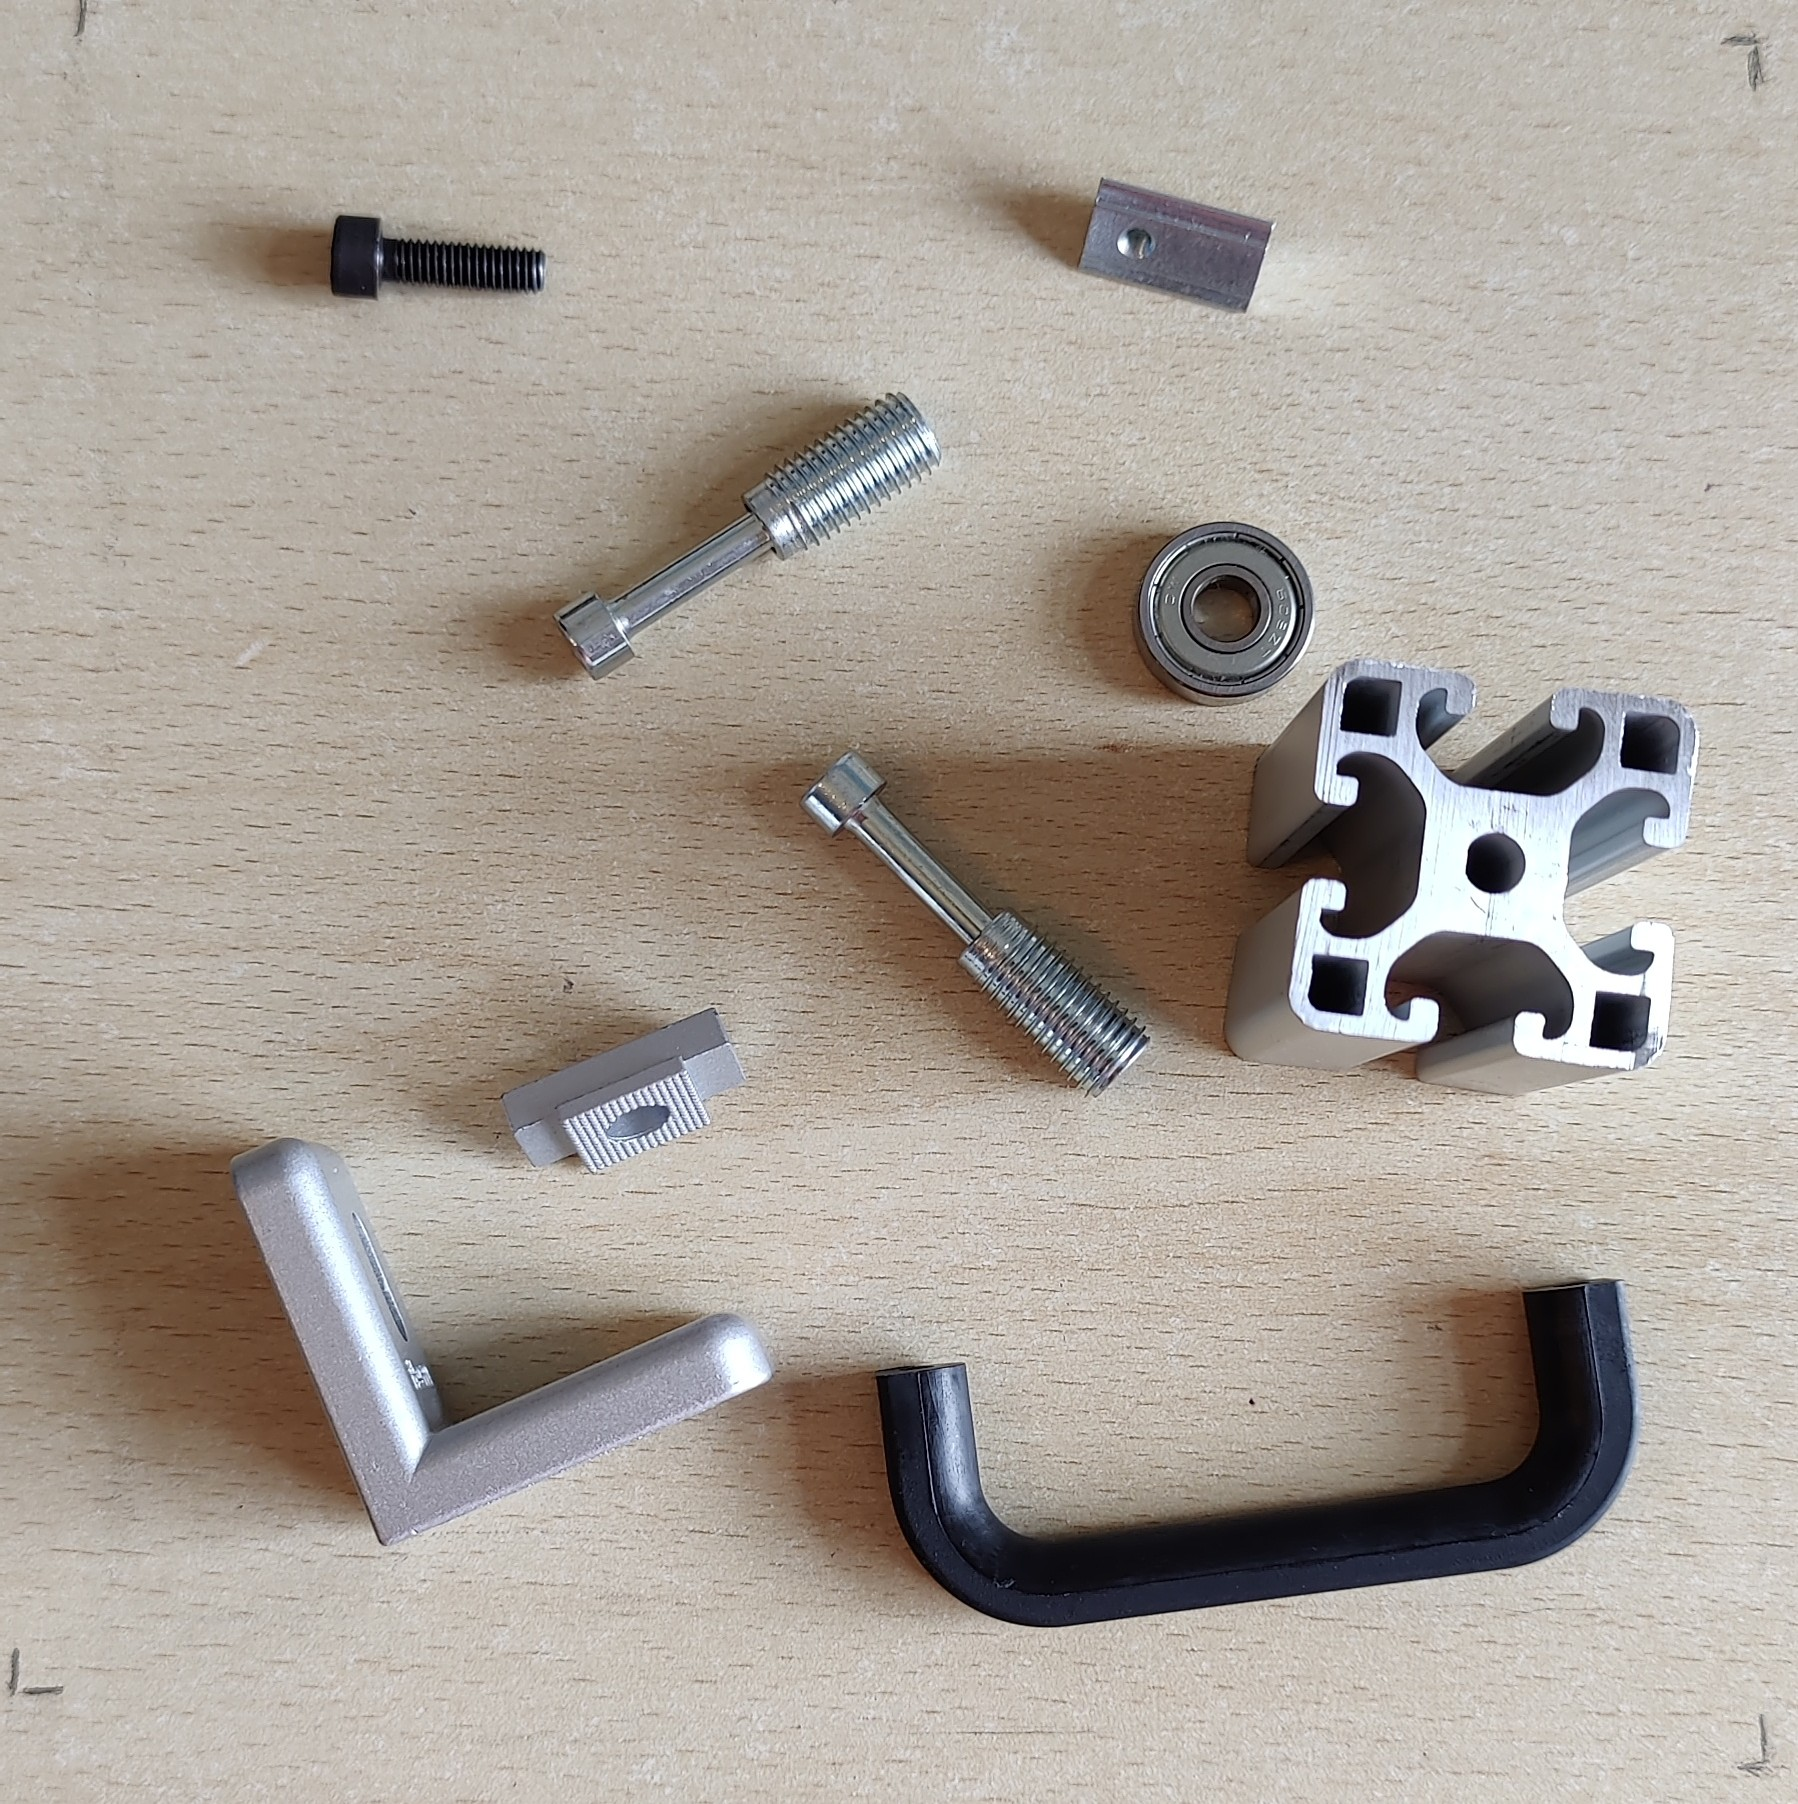Aluminium Extension: (1222, 657, 1699, 1100)
Ball Bearing: (1130, 518, 1316, 708)
Multiwinkel: (227, 1134, 780, 1547)
Pull Handle: (873, 1271, 1643, 1631)
Shoulder Socket Head Cap Screw: (799, 749, 1154, 1103), (552, 388, 943, 685)
Socket Head Cap Screw: (324, 211, 552, 303)
T Nut Square: (496, 1004, 751, 1175)
T Spring Nut: (1074, 171, 1278, 316)
